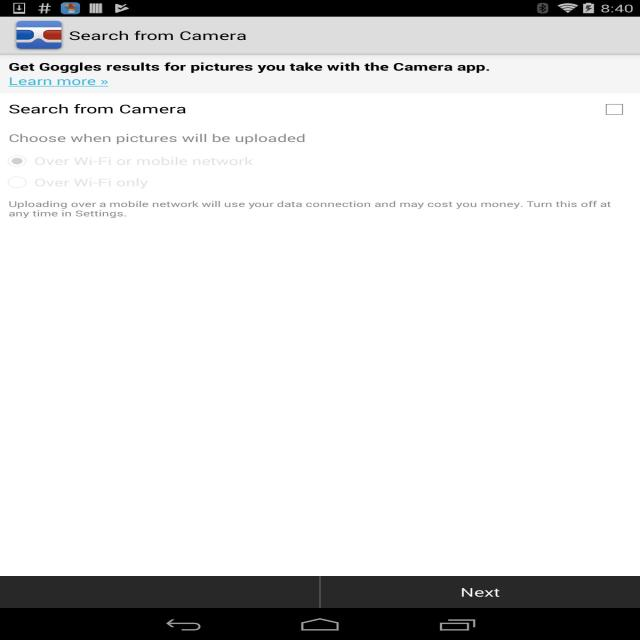button: (319, 575, 640, 609), (2, 576, 317, 610), (599, 99, 628, 121)
heading: (70, 26, 249, 44)
image: (14, 20, 63, 49)
link: (8, 76, 114, 88)
text: (2, 100, 640, 225), (7, 60, 499, 89)
